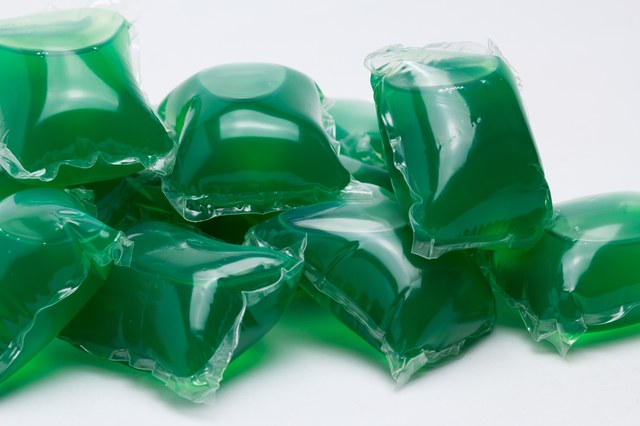Safari Liquid Detergent: (32, 21, 608, 405)
